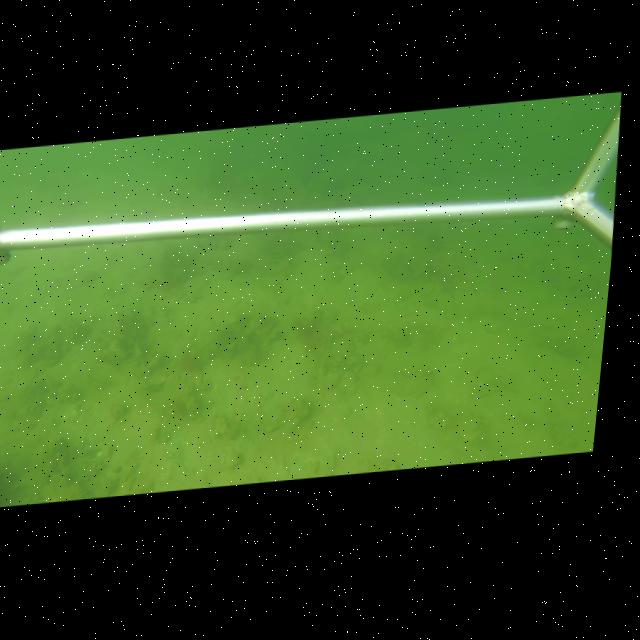Oyster-Indeterminate: (256, 389, 310, 435)
